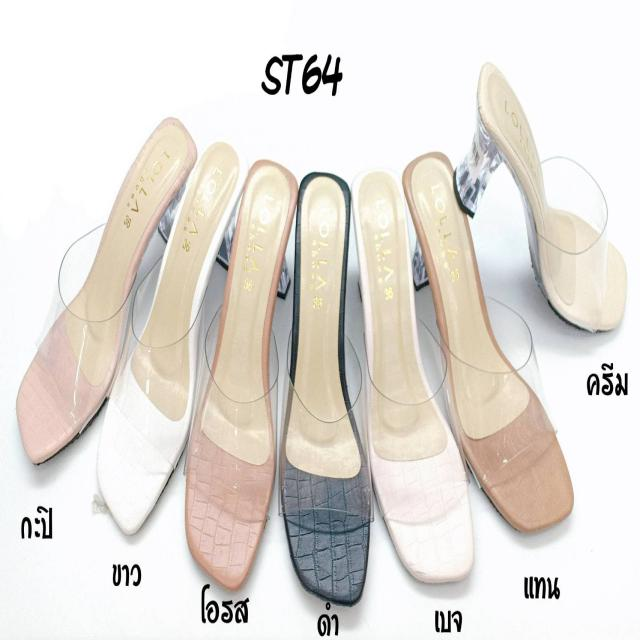bej: (353, 168, 475, 581)
black: (284, 171, 370, 602)
cream: (473, 67, 626, 338)
kapi: (17, 116, 192, 458)
orot: (184, 156, 294, 578)
tan: (406, 156, 575, 531)
white: (96, 139, 236, 527)
